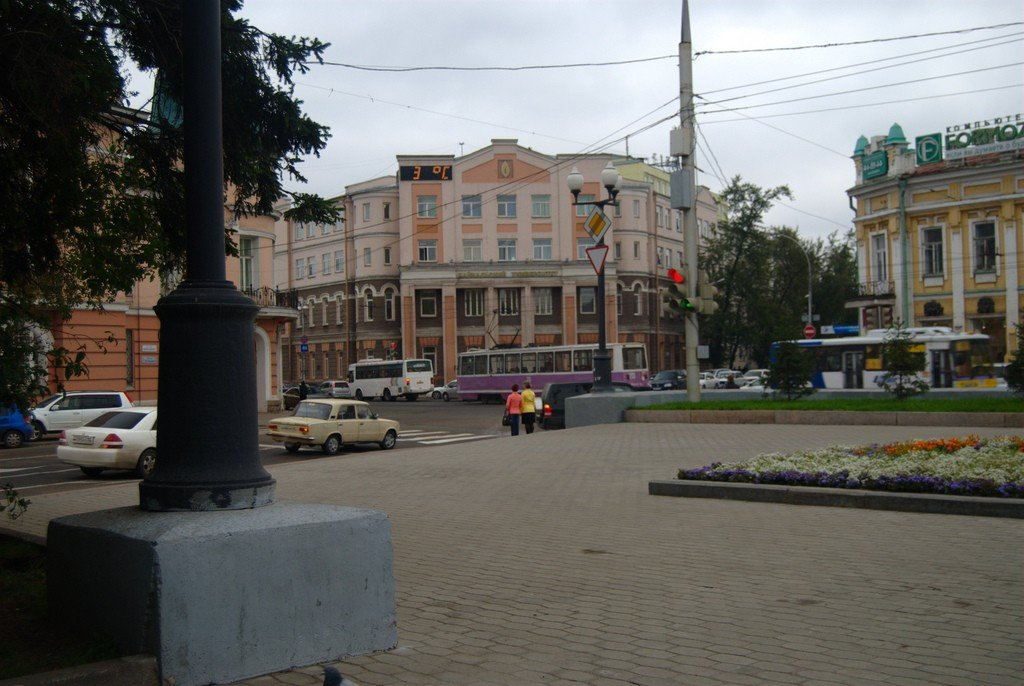sign: (580, 203, 611, 244), (584, 245, 610, 274)
